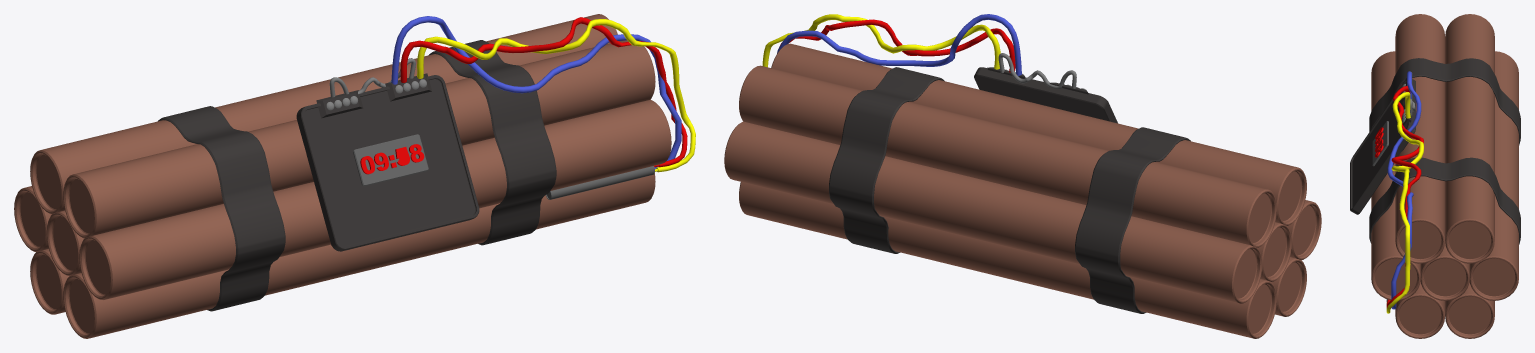
Rendered from Bombe_Unity1.fbx.
The picture shows the model from 3 angles, left to right: view 1: azimuth 30°, elevation 25°; view 2: azimuth 150°, elevation 25°; view 3: azimuth 270°, elevation 25°; orthographic projection. The views are drawn at different scales.
Visible parts, largest first — view 1: polySurface3, polySurface13, polySurface6, polySurface29, polySurface11, polySurface2, polySurface12, polySurface17, polySurface9, polySurface10, polySurface7, polySurface8 (+6 smaller); view 2: polySurface26, polySurface11, polySurface8, polySurface13, polySurface2, polySurface12, polySurface6, polySurface17, polySurface9, polySurface10, polySurface29, polySurface3 (+2 smaller); view 3: polySurface11, polySurface13, polySurface26, polySurface3, polySurface2, polySurface6, polySurface12, polySurface29, polySurface8, polySurface18, polySurface9, polySurface17 (+2 smaller).
Part boxes in pixels (x1,y1,x2,y2): polySurface3: (79, 99, 671, 299); polySurface13: (63, 40, 655, 238); polySurface6: (296, 75, 479, 251); polySurface29: (63, 173, 655, 338); polySurface11: (30, 14, 617, 214); polySurface2: (158, 106, 285, 311); polySurface12: (429, 40, 556, 245); polySurface17: (391, 16, 681, 169); polySurface9: (417, 19, 695, 172); polySurface10: (400, 17, 687, 167); polySurface7: (353, 134, 428, 186); polySurface8: (30, 249, 69, 314); polySurface26: (724, 121, 1262, 303); polySurface11: (739, 65, 1276, 247); polySurface8: (739, 182, 1276, 338); polySurface13: (771, 43, 1306, 225); polySurface2: (1075, 127, 1190, 313); polySurface12: (829, 67, 944, 253); polySurface6: (974, 67, 1117, 123); polySurface17: (777, 14, 1021, 76); polySurface9: (762, 14, 1000, 69); polySurface10: (779, 19, 1015, 72); polySurface29: (1271, 257, 1306, 316); polySurface3: (1287, 200, 1321, 259); polySurface11: (1445, 14, 1494, 263); polySurface13: (1395, 14, 1445, 263); polySurface26: (1469, 51, 1518, 300); polySurface3: (1371, 51, 1420, 300); polySurface2: (1369, 58, 1520, 145); polySurface6: (1350, 78, 1415, 214); polySurface12: (1369, 157, 1520, 244); polySurface29: (1395, 282, 1445, 338); polySurface8: (1445, 283, 1494, 338); polySurface18: (1420, 241, 1469, 300); polySurface9: (1386, 92, 1423, 313); polySurface17: (1387, 71, 1421, 309).
Bounding box in the file's own units: 20.96 × 8.18 × 6.87.
